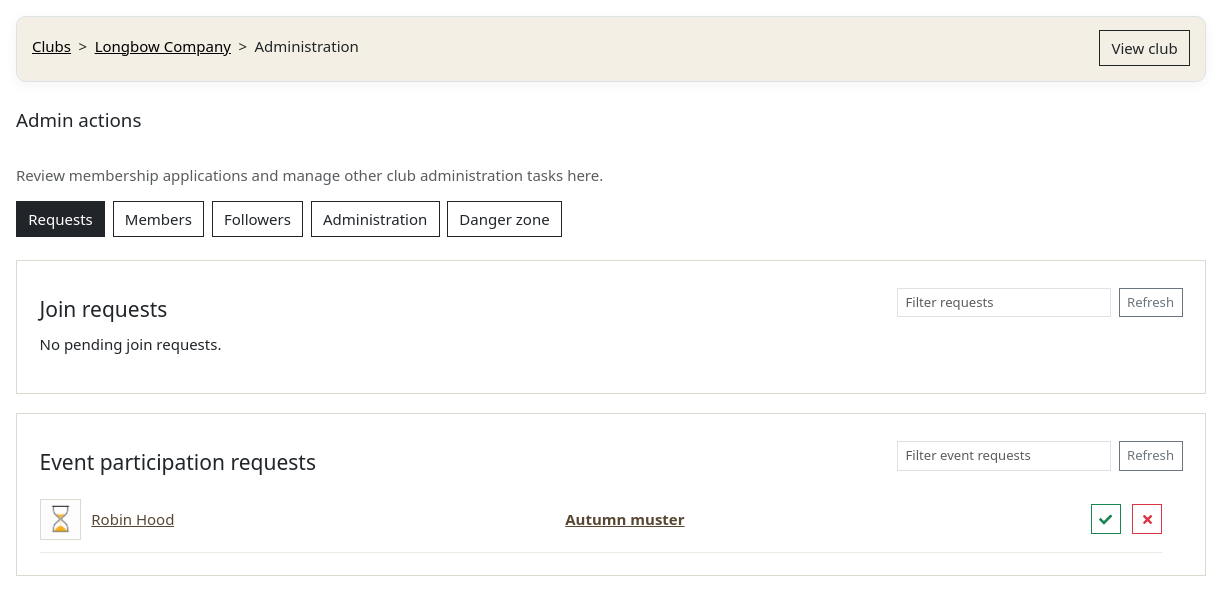
Scenario: club admins can review club event participation requests from the admin page
Click the button named "Approve event participation request" at (1106, 519), box [1091, 504, 1121, 534]
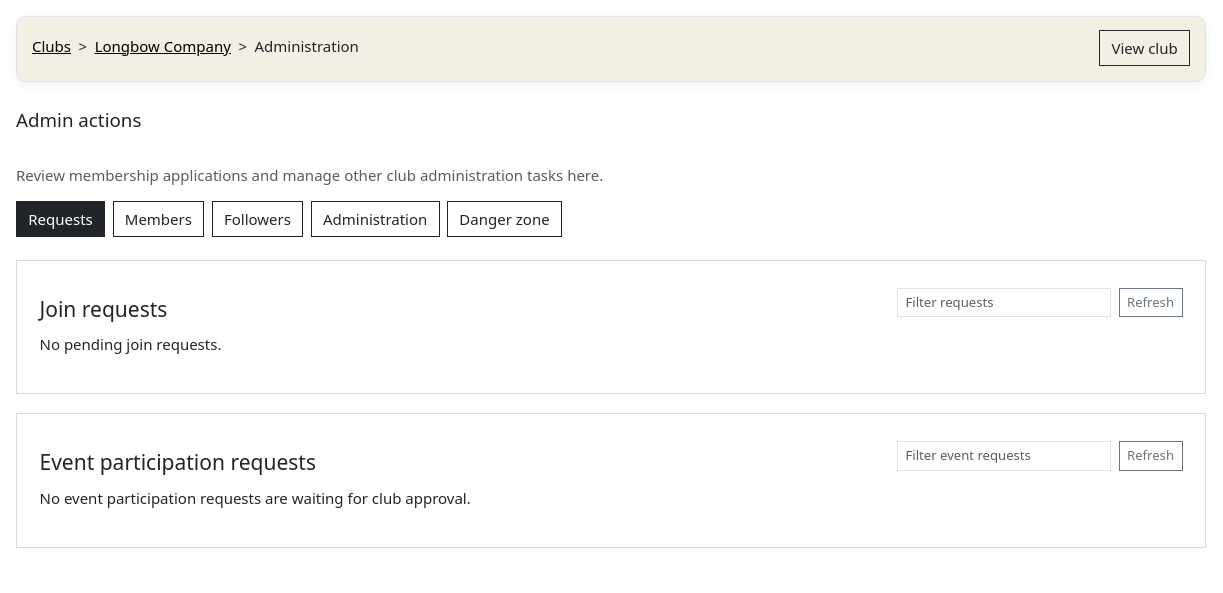
Result: the text "No event participation requests are waiting for club approval." is shown at [40, 488, 471, 508]
